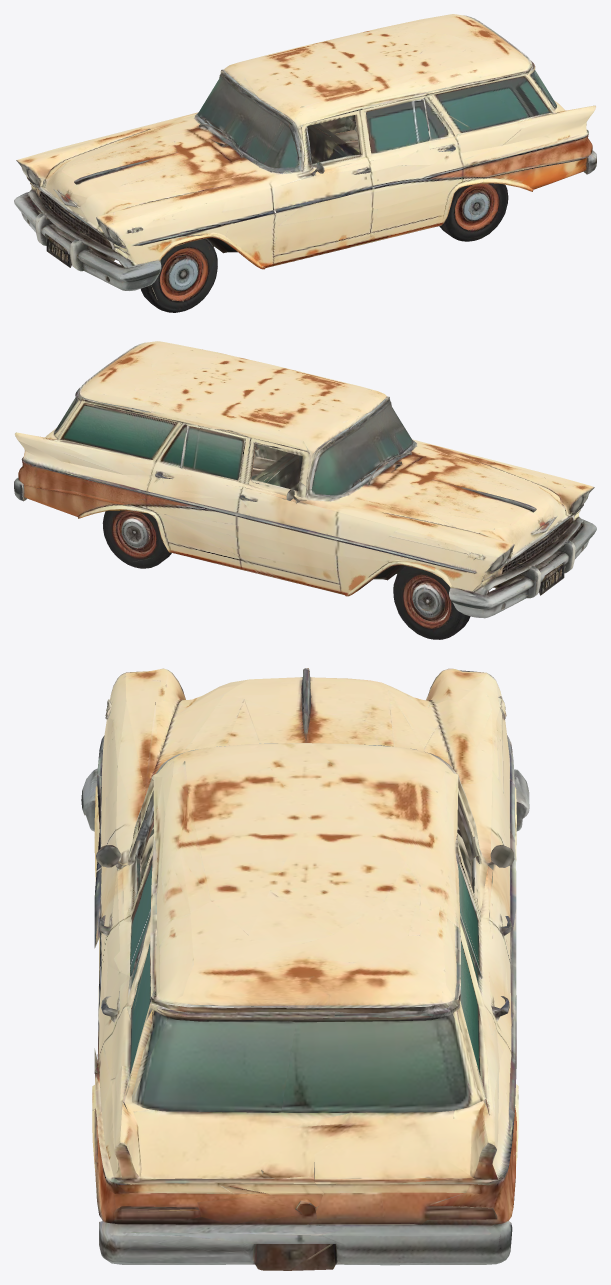
The model's file is suburb-car.glb.
3 renders of one model, top to bottom at view 1: azimuth 30°, elevation 25°; view 2: azimuth 150°, elevation 25°; view 3: azimuth 270°, elevation 25°, orthographic. The views are drawn at different scales.
Visible parts, largest first — view 1: suburb-car-Mesh_0.006; view 2: suburb-car-Mesh_0.006; view 3: suburb-car-Mesh_0.006.
Boxes of the visible parts, x1,y1,x2,y2 form: suburb-car-Mesh_0.006: (14, 14, 596, 312); suburb-car-Mesh_0.006: (14, 341, 596, 639); suburb-car-Mesh_0.006: (81, 668, 529, 1270).
Bounding box in the file's own units: 4.5 × 1.44 × 1.76.
1 material, 1 textured.
